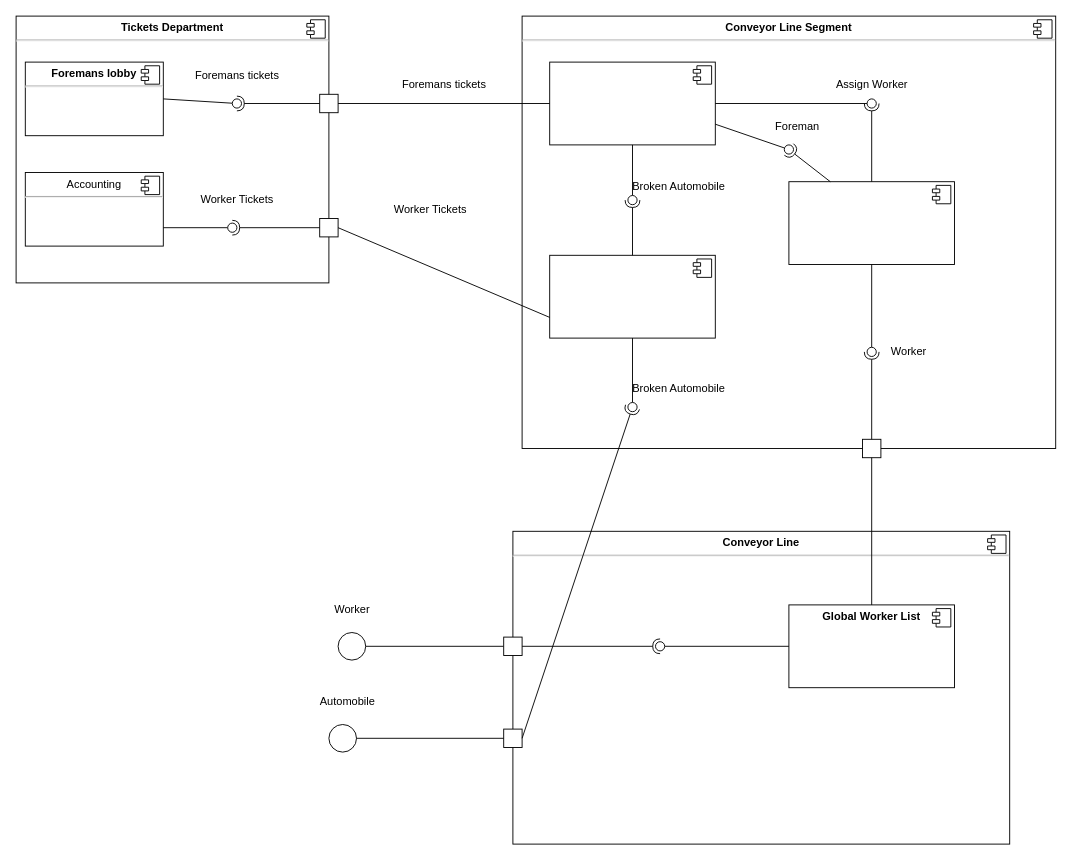
Image size: 1072x860. Some labels were removed from this diagram. Here are the shapes that lost their labels. From the top down, the centre of each, then its label:
pixel 632 103: Repair Spot Analyzer
pixel 871 222: Repair Zone Worker List
pixel 632 296: Repair Zone Analyzer
